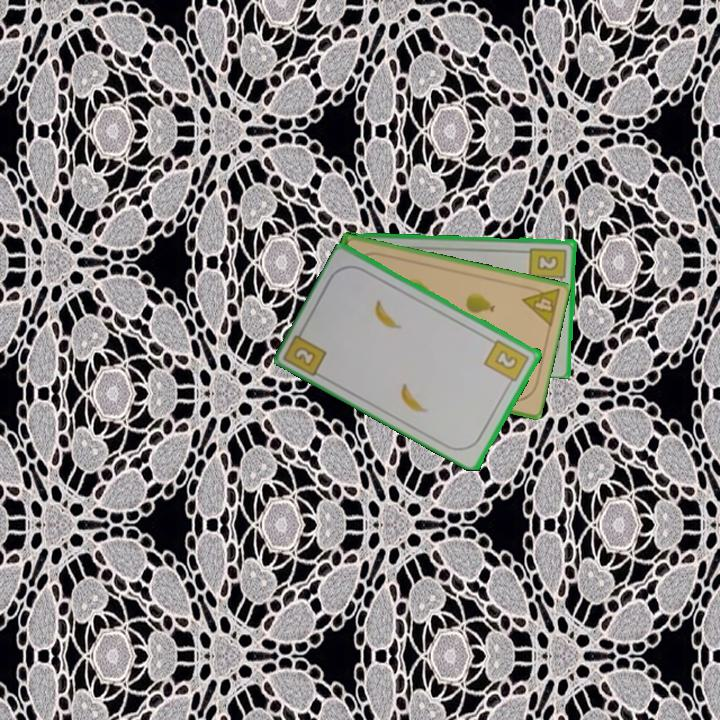2b: (481, 336, 532, 388), (527, 244, 569, 287), (290, 343, 319, 369)
4p: (518, 281, 562, 329)
